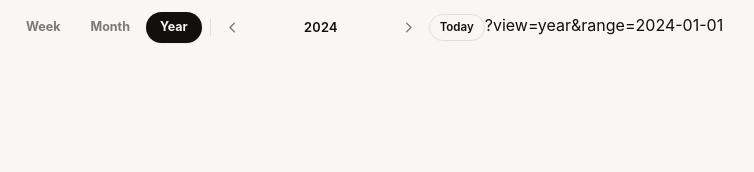
Scenario: the period control › switching mode re-snaps the period onto the new grid
Check: the text "2024" is shown, box [304,19,338,35]
Click the tab "Month" at (110, 27), box [76,12,144,43]
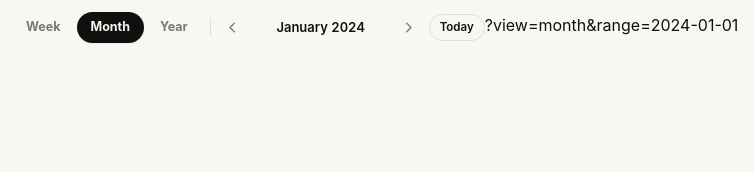
Check: the text "January 2024" is shown, box [276,19,365,35]
